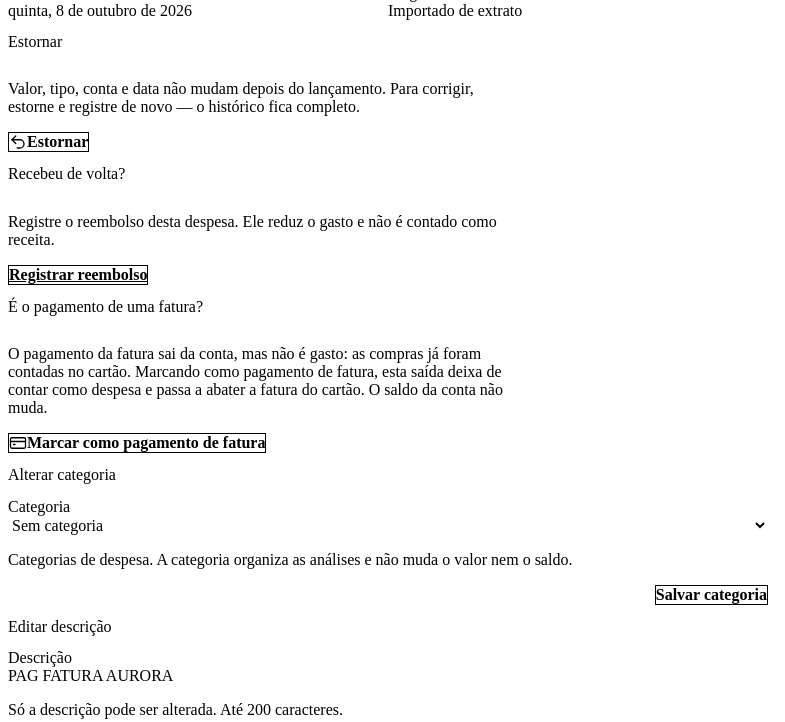
Test case: /transactions/{id} — detalhe e ações › marcar como pagamento de fatura (ADR-0025 §7) › regra do domínio vira mensagem clara
(page scrolled)
Click the button "Marcar como pagamento de fatura". click: (137, 443)
box: [8,433,266,453]
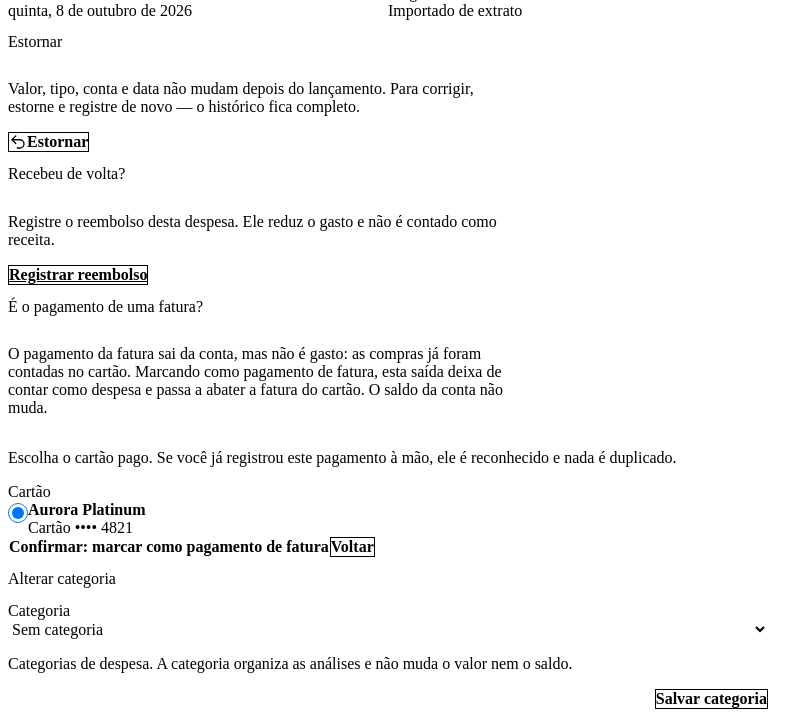
Click the button "Confirmar: marcar como pagamento de fatura". click: (169, 547)
box: [8,537,330,557]
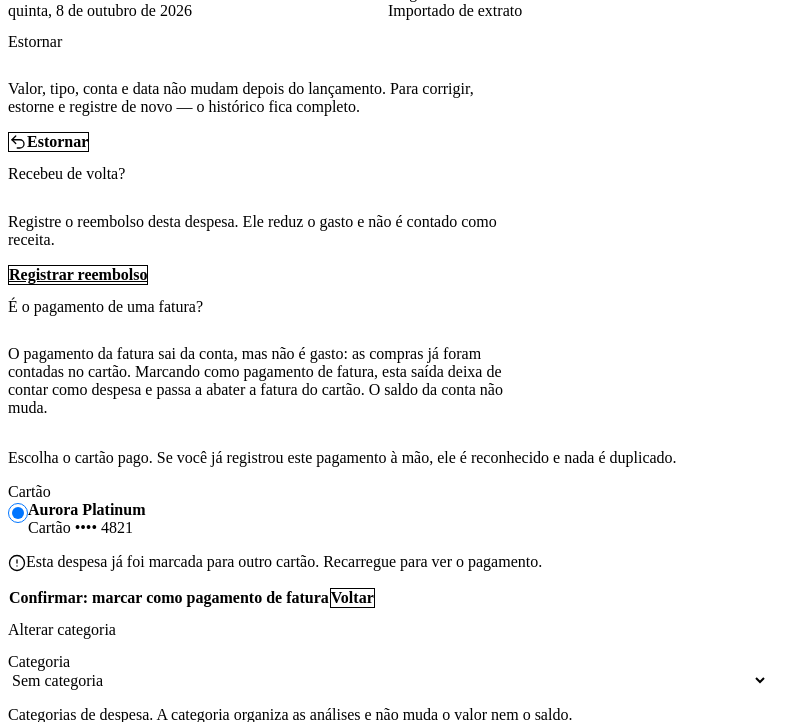
Now the message shows "já foi marcada para outro cartão", box [26,553,542,570]
